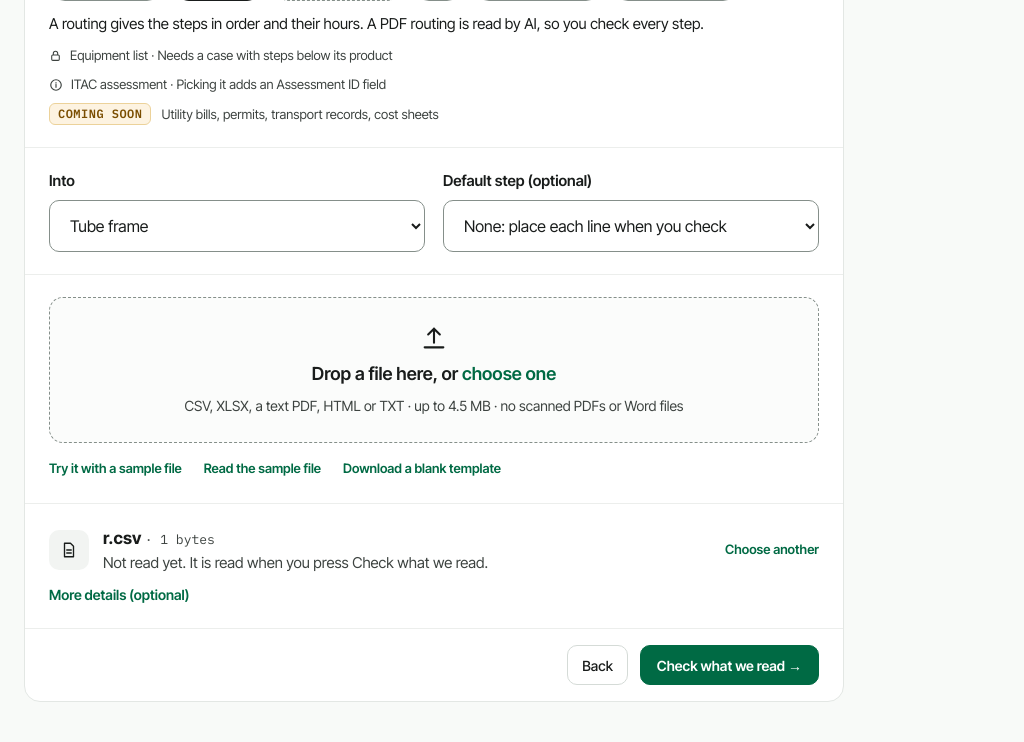
Test case: appending waits for the case › keeps Apply disabled until the case's steps are read, then matches them
The width and height of the screenshot is (1024, 742).
Earlier steps of the test are not shown.
Later steps or results of the test are not shown.
(page scrolled)
Click the button "Check what we read →". click: click(729, 665)
box: x1=640 y1=645 x2=819 y2=685
(page scrolled)
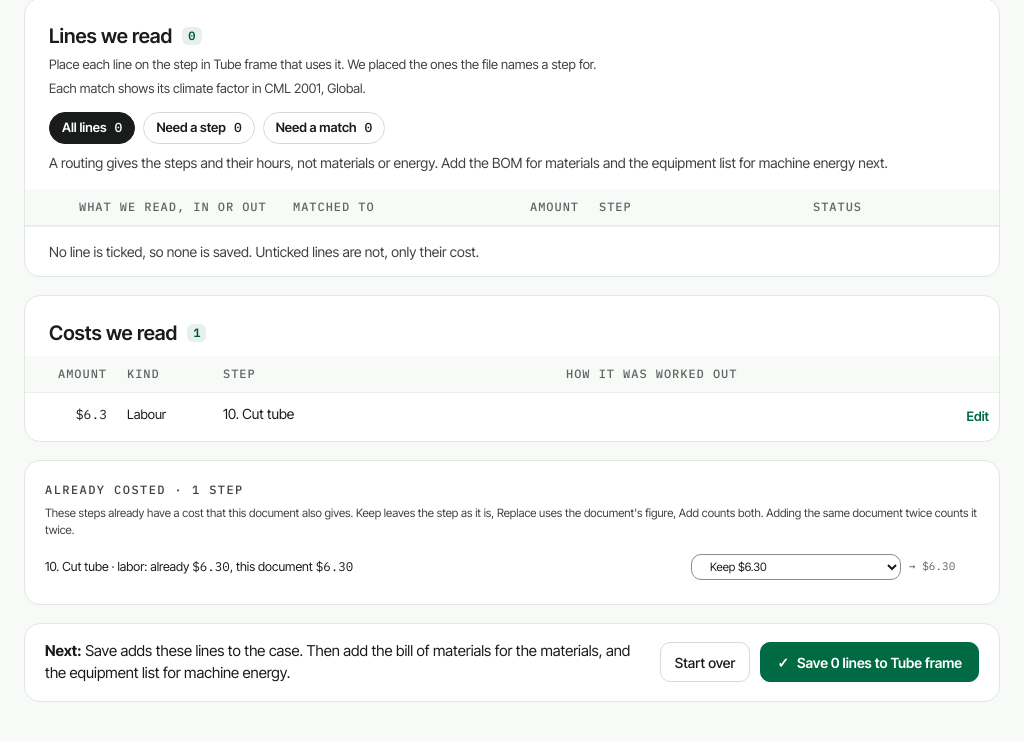
Check: the button "✓ Save 0 lines to Tube frame" is enabled, box x1=760 y1=642 x2=979 y2=682
Check: the dropdown named "What to do with the labor cost of 10. Cut tube" shows "Keep $6.30", box x1=691 y1=554 x2=901 y2=580
